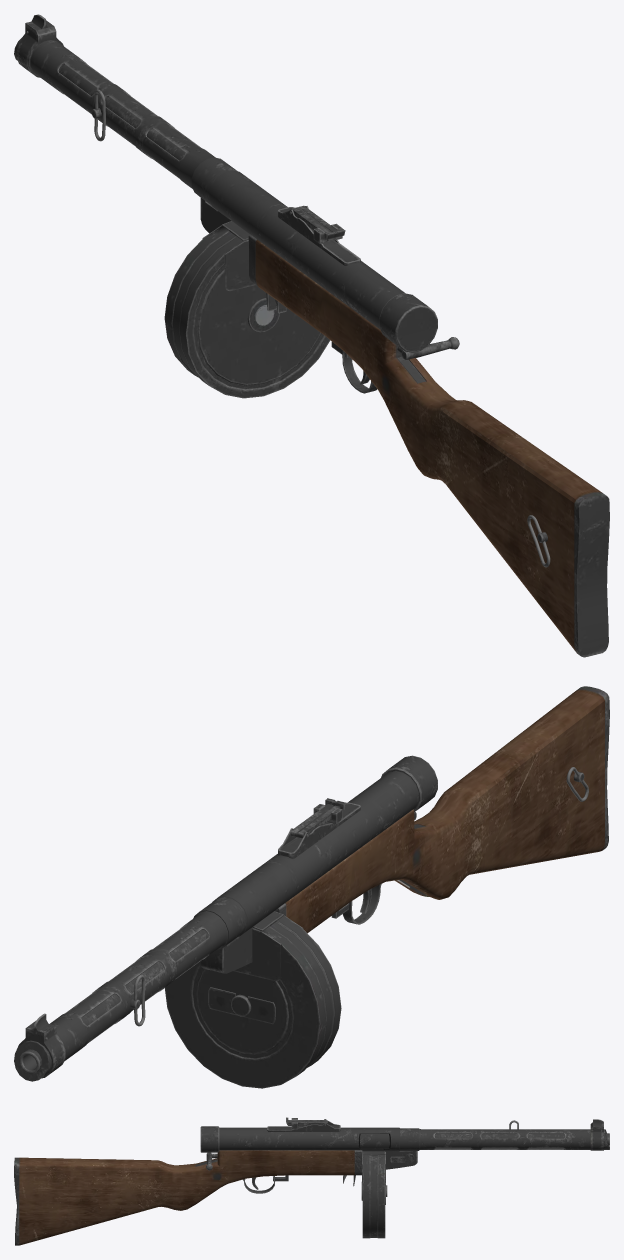
Rendered from Suomi_KP.glb.
3 renders of one model, top to bottom at view 1: azimuth 30°, elevation 25°; view 2: azimuth 150°, elevation 25°; view 3: azimuth 270°, elevation 25°, orthographic. The views are drawn at different scales.
Parts seen in each view (by area): view 1: Body; view 2: Body; view 3: Body.
Boxes of the visible parts, box(x1,y1,x2,y2) form: Body: box(14, 14, 609, 657); Body: box(14, 686, 609, 1088); Body: box(14, 1117, 609, 1245).
Bounding box in the file's own units: 0.1387 × 0.2003 × 0.8749.
Materials: 1 (1 with a texture image).
